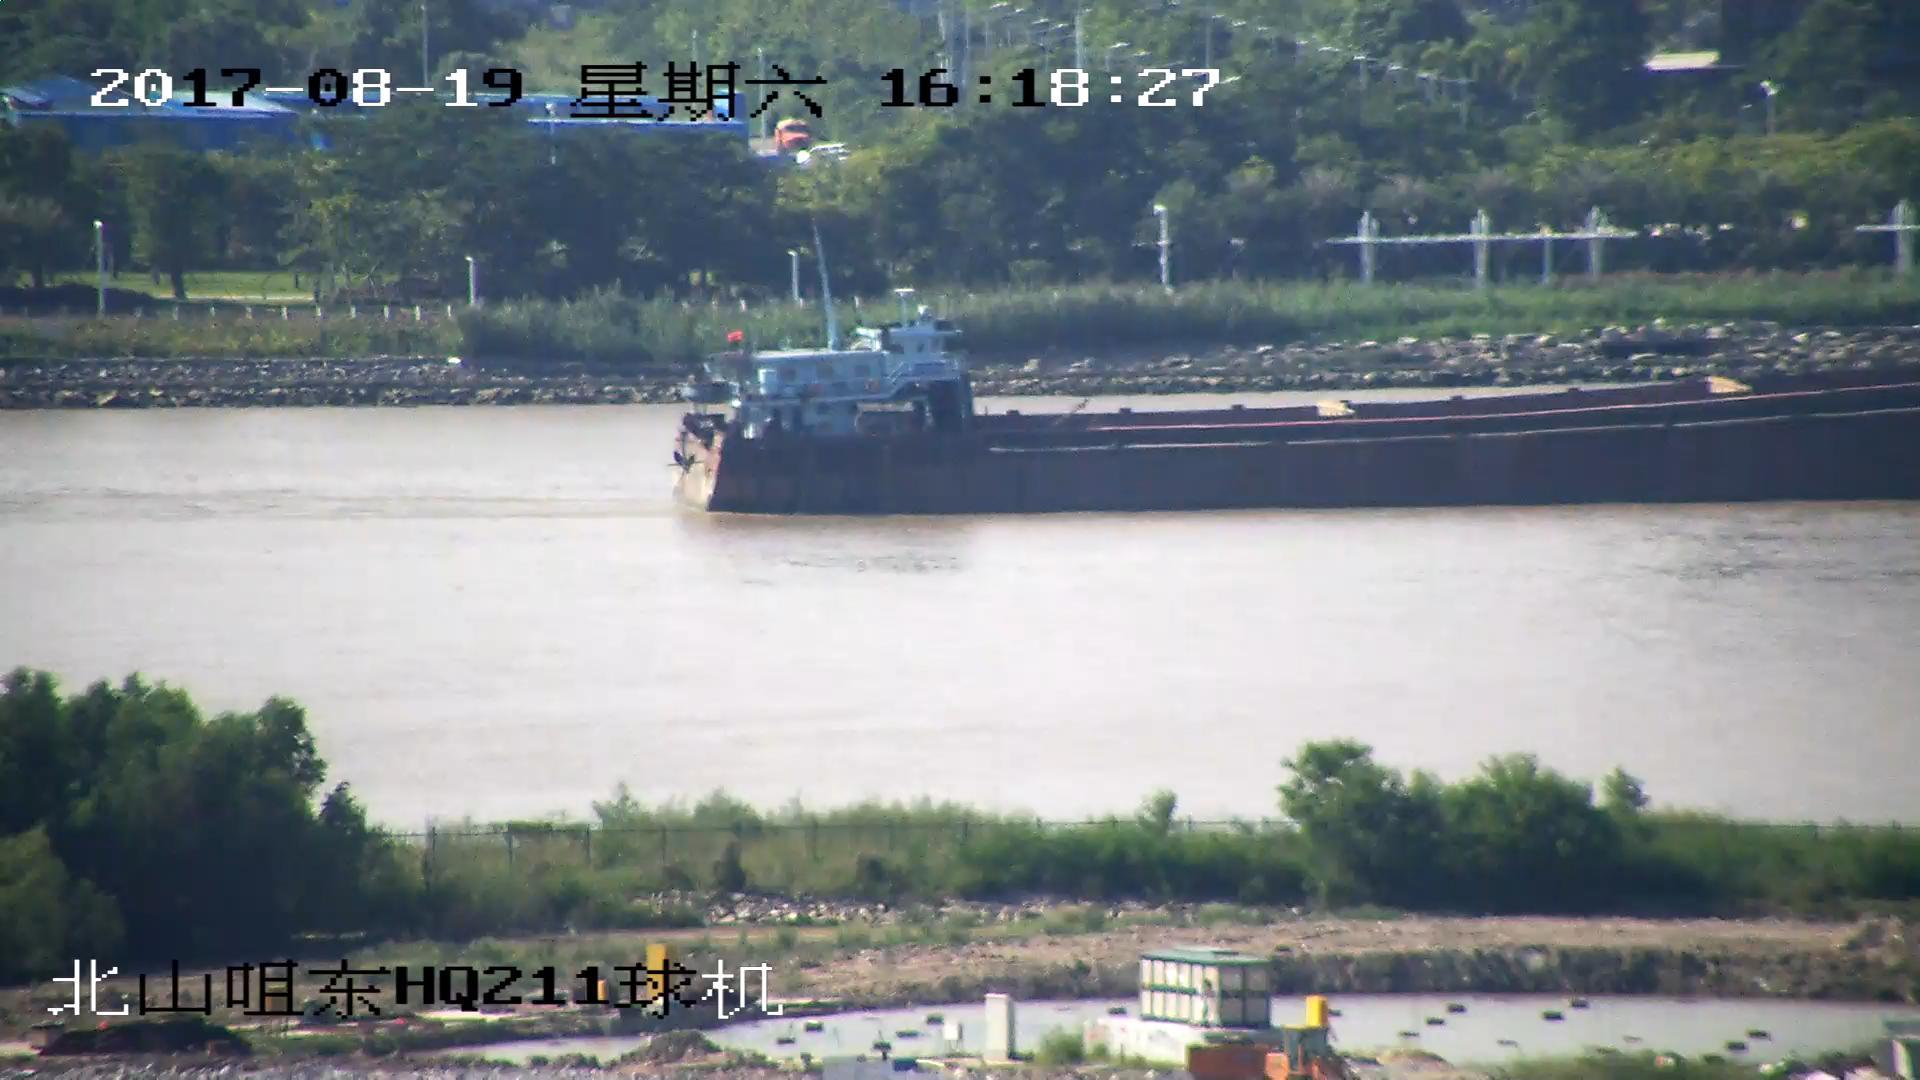Ship: (671, 306, 1920, 517)
